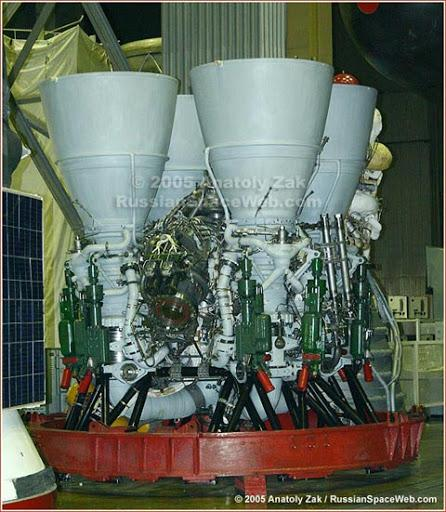thruster: (186, 55, 339, 227), (36, 69, 181, 238), (294, 82, 381, 227), (143, 91, 209, 225)
